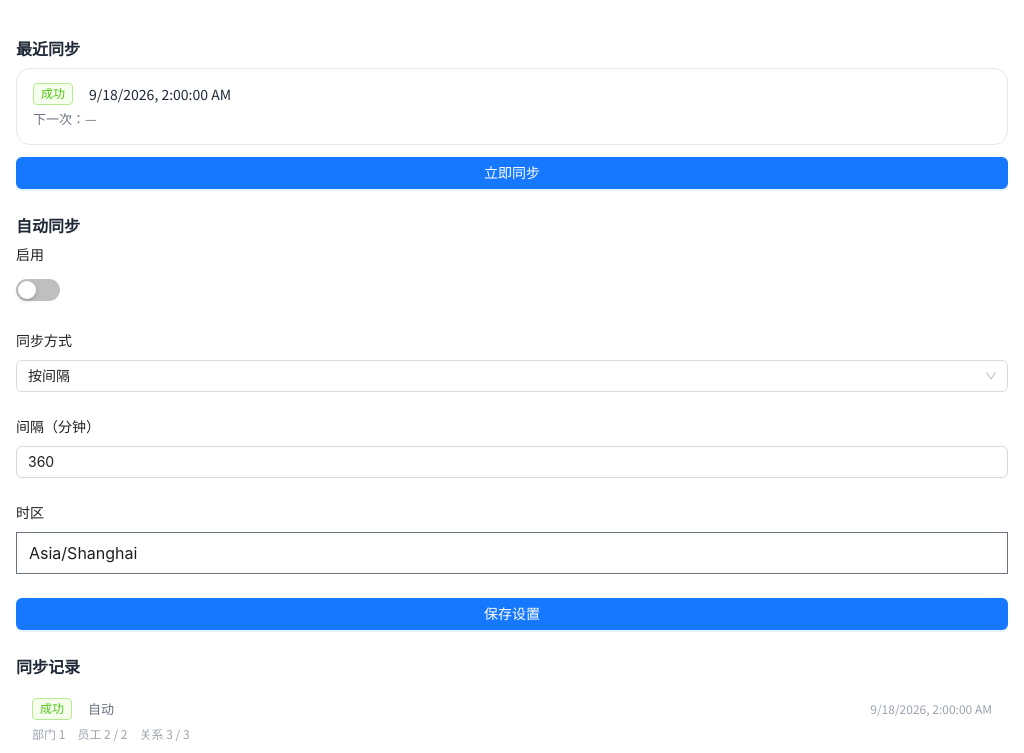
Test: MobileSyncPage — config write guard (P1-3) › a failed refresh AFTER a successful load shows the stale-data warning and keeps the form
The image size is (1024, 753).
Click the button "立即同步" at (512, 173), box 16,157 -> 1008,189
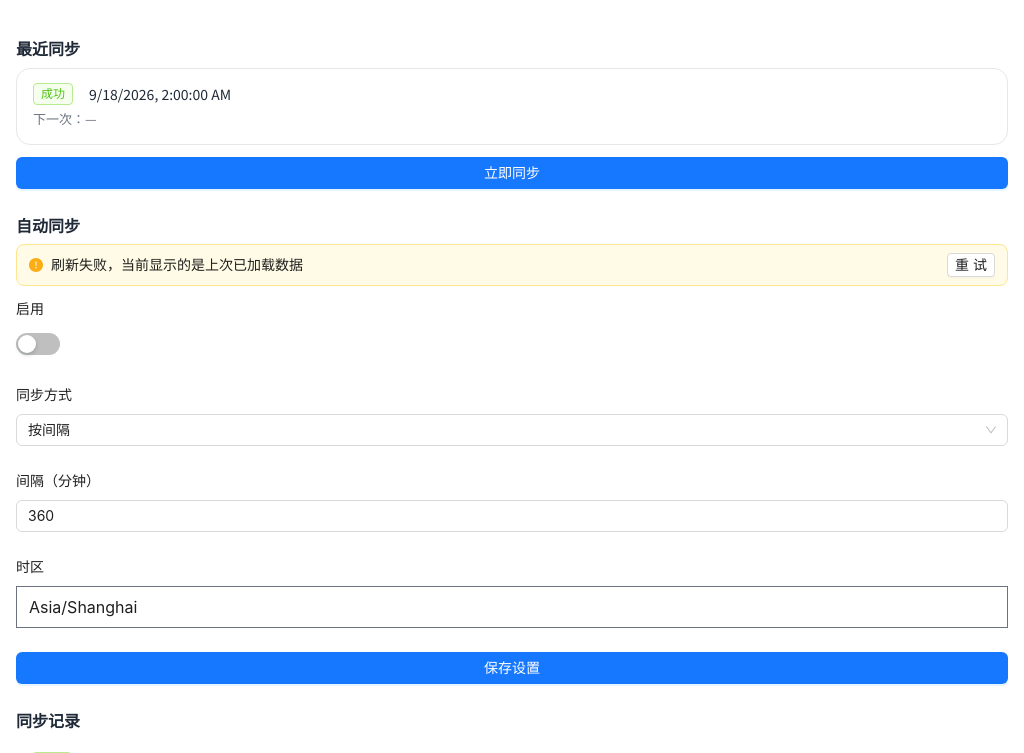
Check: the button "保存设置" is shown, box 16,652 -> 1008,684
Check: the text "刷新失败，当前显示的是上次已加载数据" is shown, box 51,256 -> 303,273
